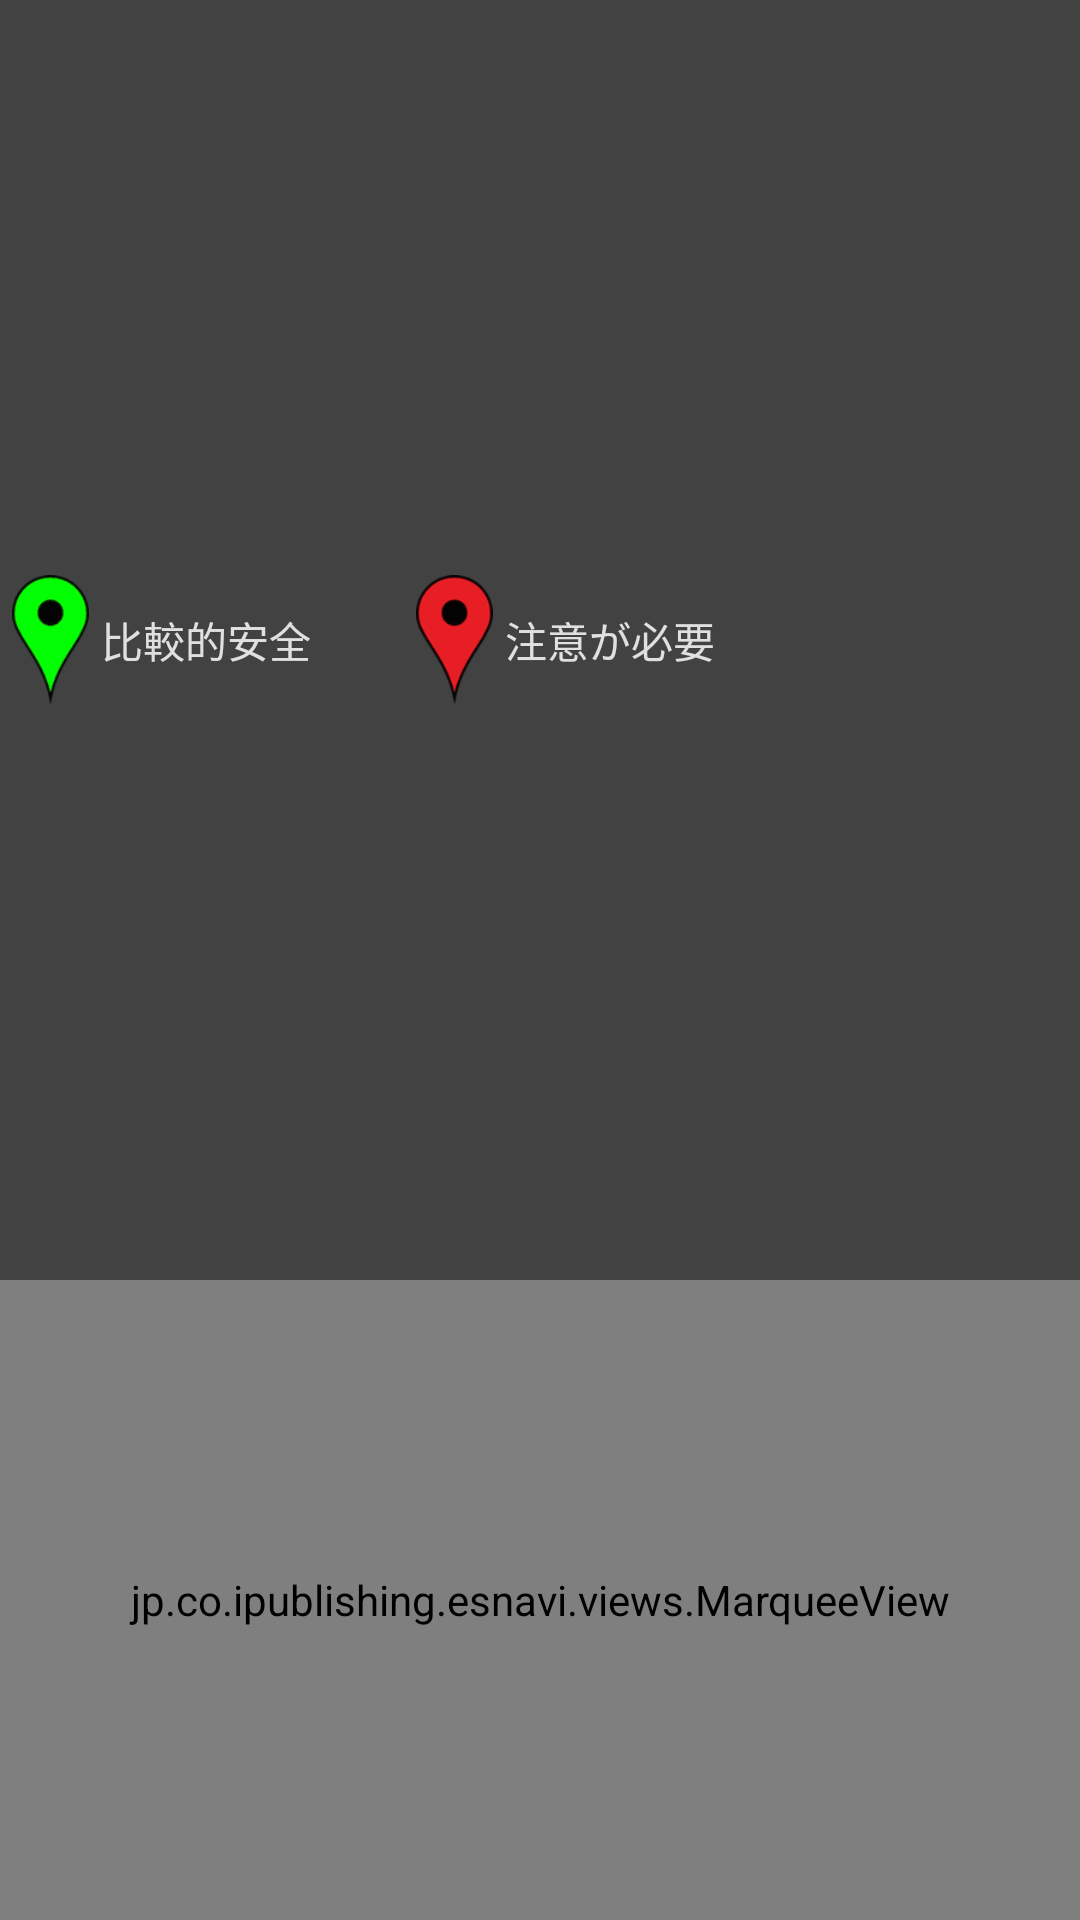

Icons on this 1080 × 1920 Android screen, each with its box as (x1, y1, x2, y2):
note safety: (12, 575, 89, 702)
